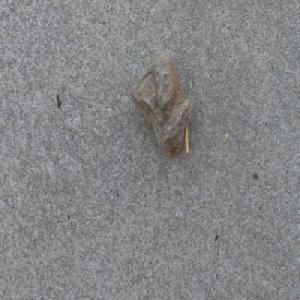Rock: (129, 48, 192, 160)
